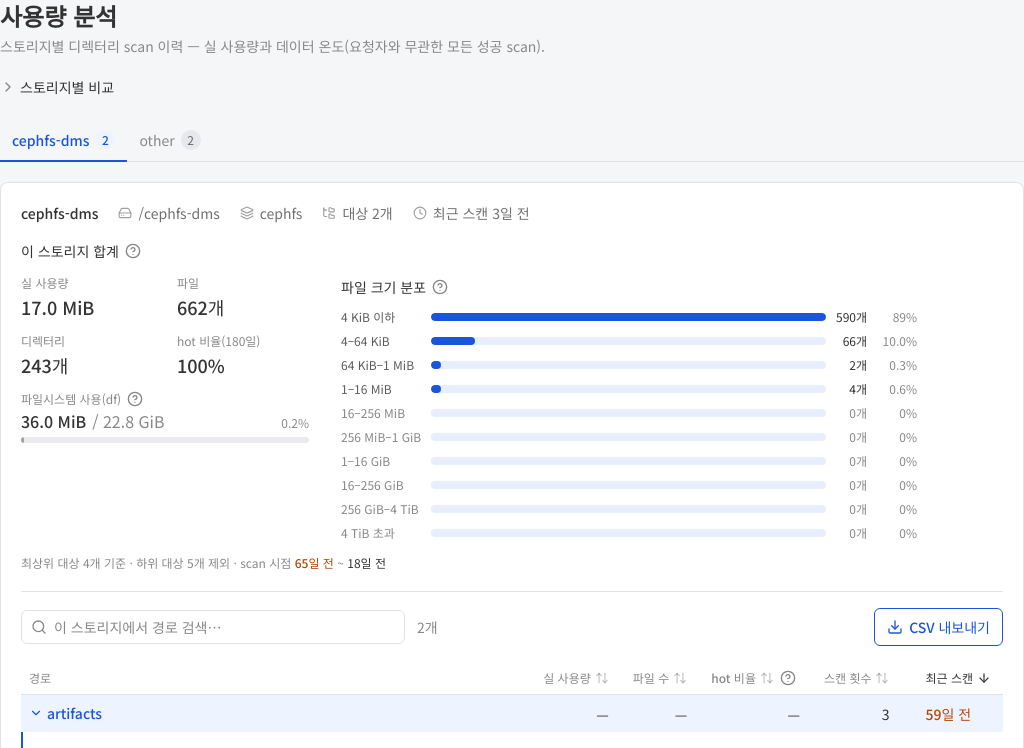
Test case: 탭 전환: URL 은 {storage}(push) -- 펼친 target 은 버린다. 같은 탭 재클릭은 아무것도 바꾸지 않는다
Step 1. Click the tab "cephfs-dms 2" → x=64, y=141, box [0,120,127,162]
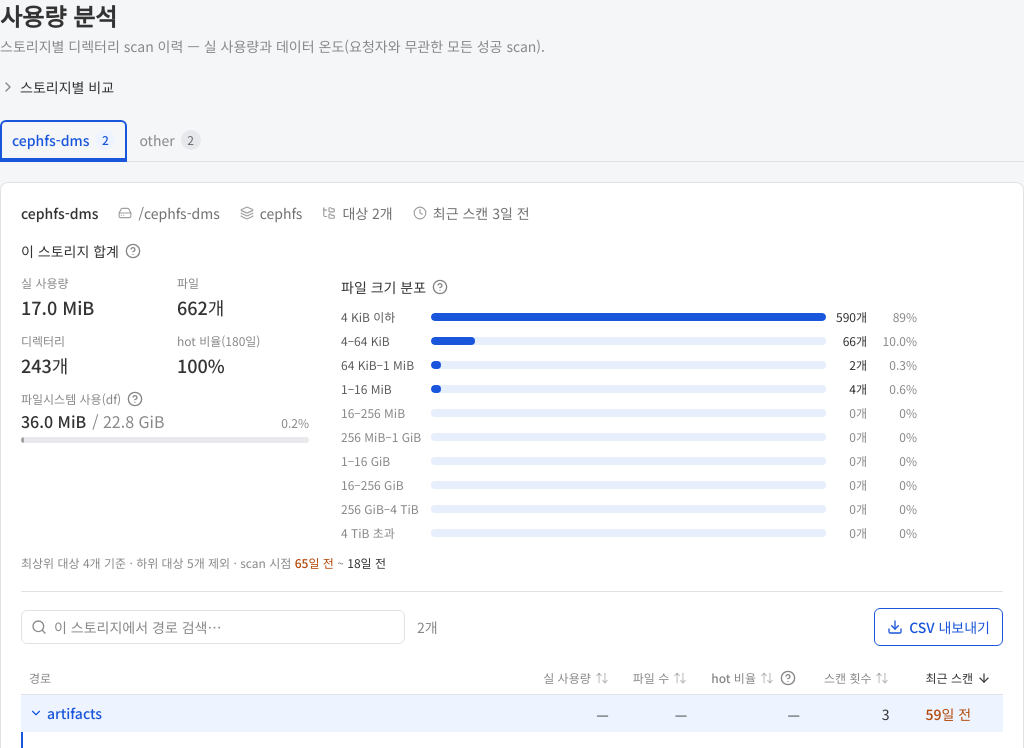
Check: the text "artifacts" is shown, box [47,703,102,723]
Step 2. Click the tab "other 2" → x=170, y=141, box [127,120,212,162]
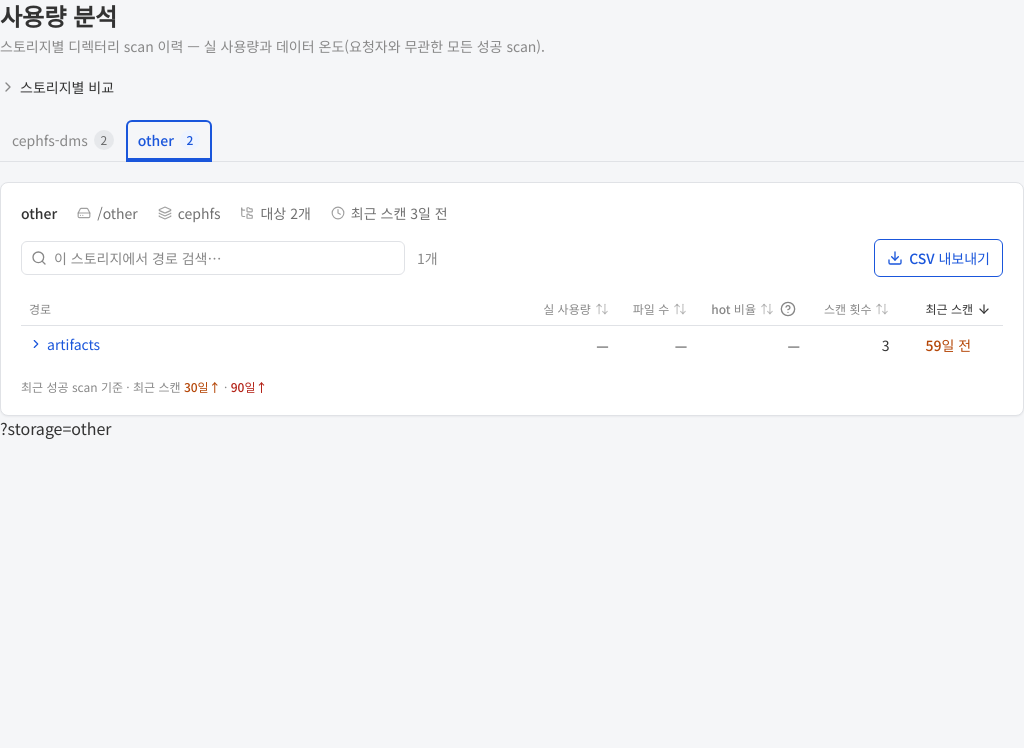
Check: the 1st text "other" is shown, box [138,128,174,152]
Check: the button "artifacts" is collapsed, box [29,334,100,354]
